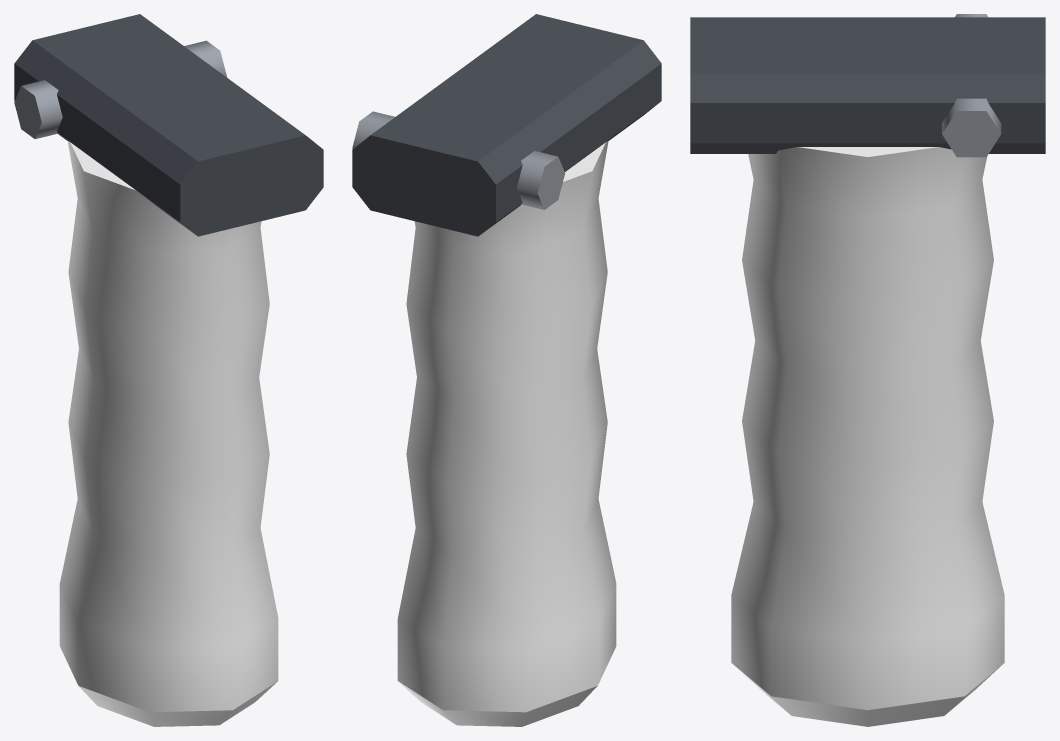
The model's file is att_grip.glb.
The picture shows the model from 3 angles, left to right: view 1: azimuth 30°, elevation 25°; view 2: azimuth 150°, elevation 25°; view 3: azimuth 270°, elevation 25°; orthographic projection. The views are drawn at different scales.
Parts seen in each view (by area): view 1: att_grip__body; view 2: att_grip__body; view 3: att_grip__body.
Part boxes in pixels (box(x1,y1,x2,y2)): att_grip__body: box(14, 14, 323, 726); att_grip__body: box(352, 14, 661, 726); att_grip__body: box(690, 14, 1045, 726).
Size of the model in its own units: 0.031 by 0.096 by 0.048.
1 material, 1 textured.
